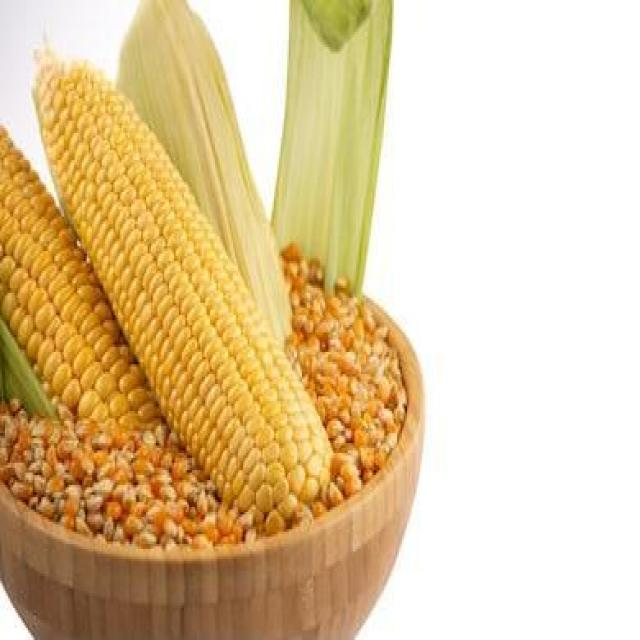Corn ear: (0, 144, 143, 430), (160, 264, 326, 507), (54, 67, 198, 305)
